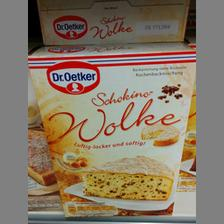Kuchen: (28, 43, 196, 217)
